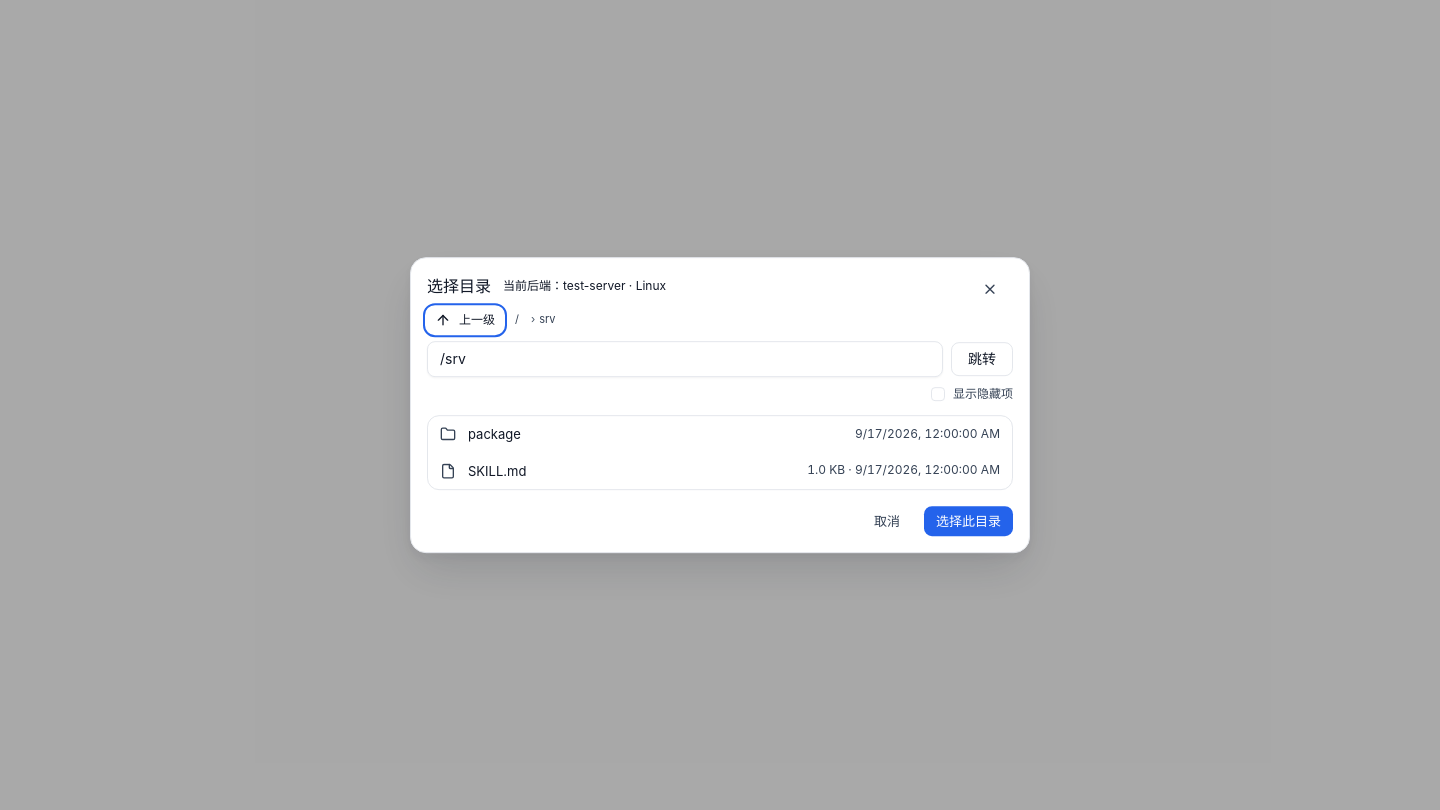
it: 原地改名 Enter 即提交，成功后跳新位置重取
Click the button "package" at coordinates (494, 435), box [440,425,843,445]
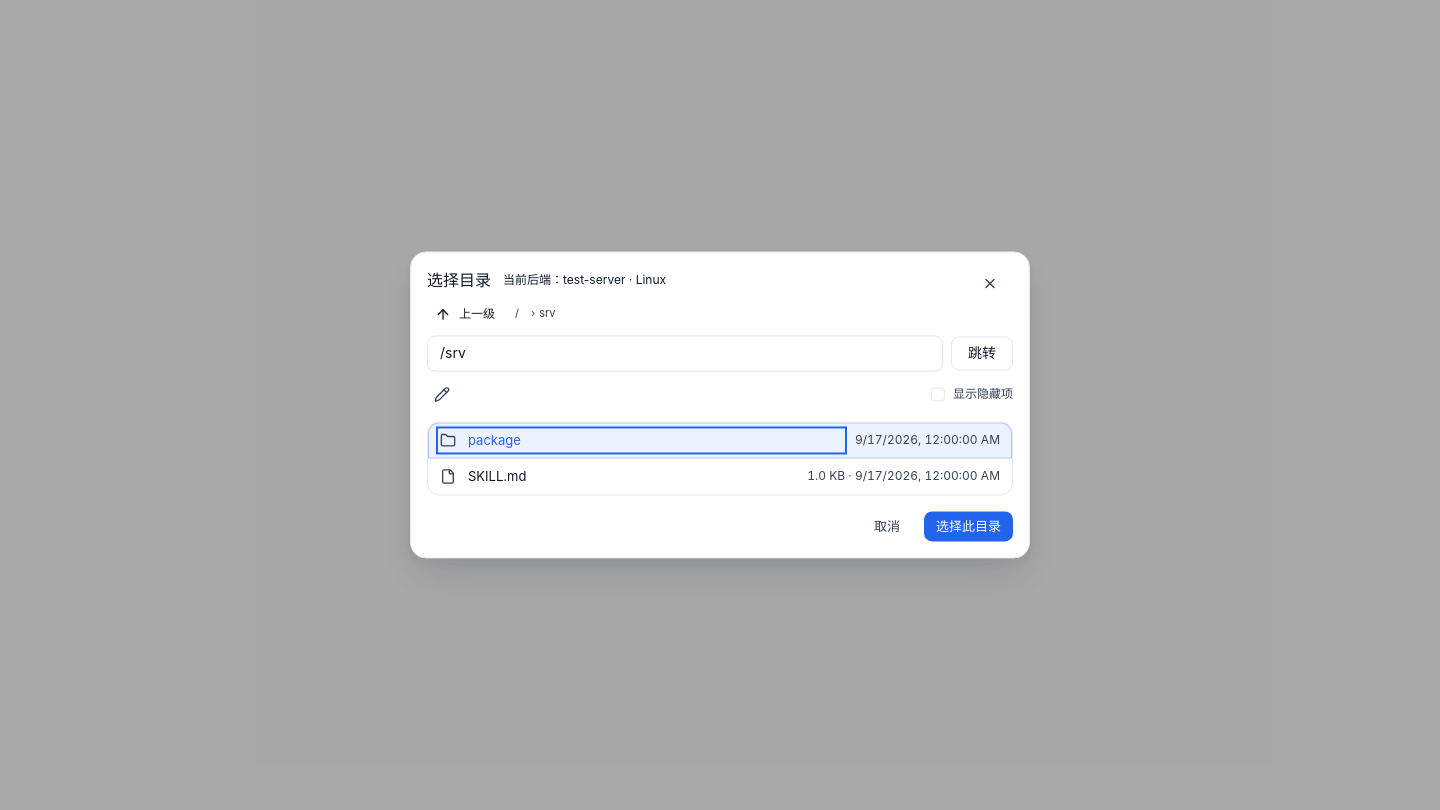
Click the button named "重命名" at coordinates (442, 394), box [427,379,457,409]
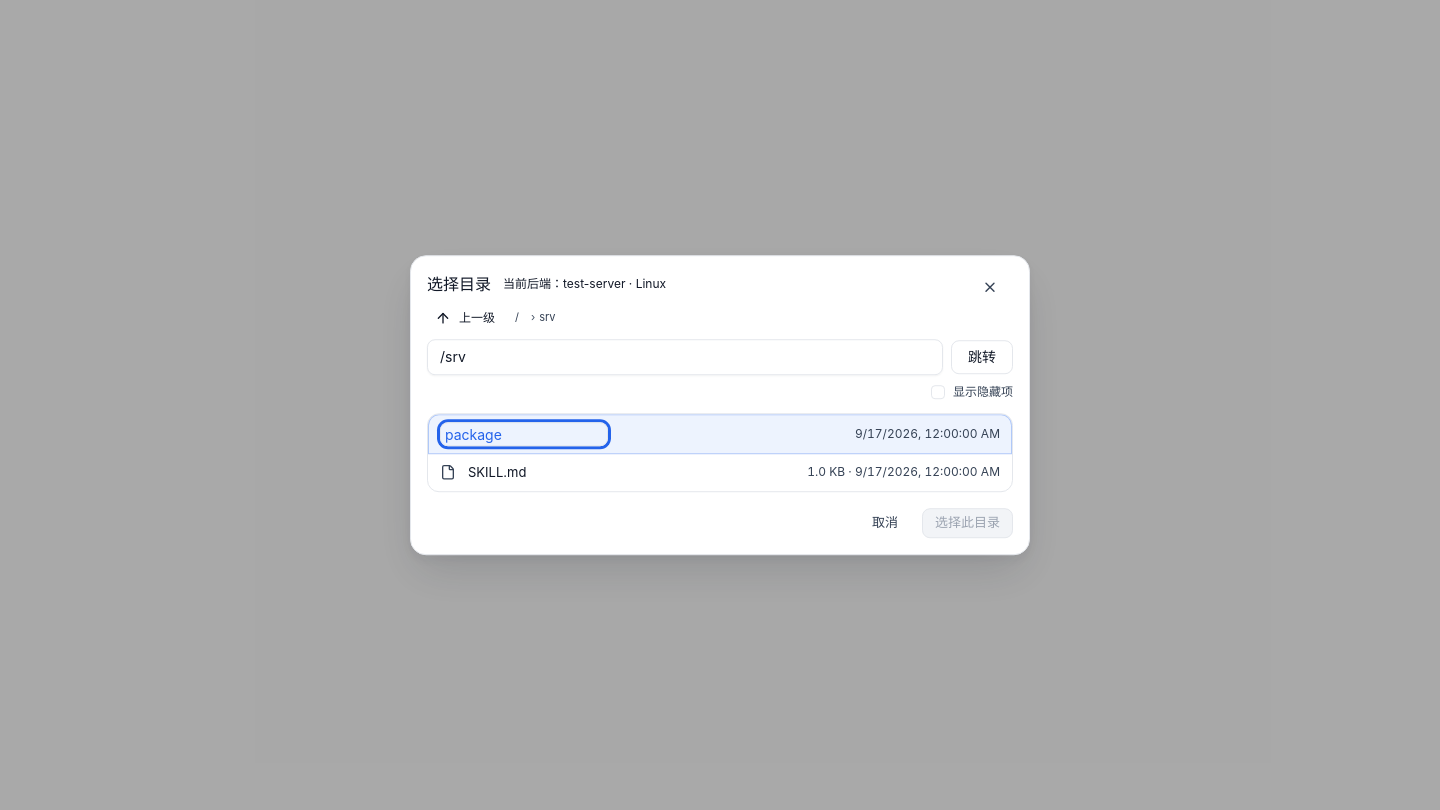
Replace the text in the field named "重命名 package" with "renamed" at coordinates (524, 435), box [440,423,608,447]
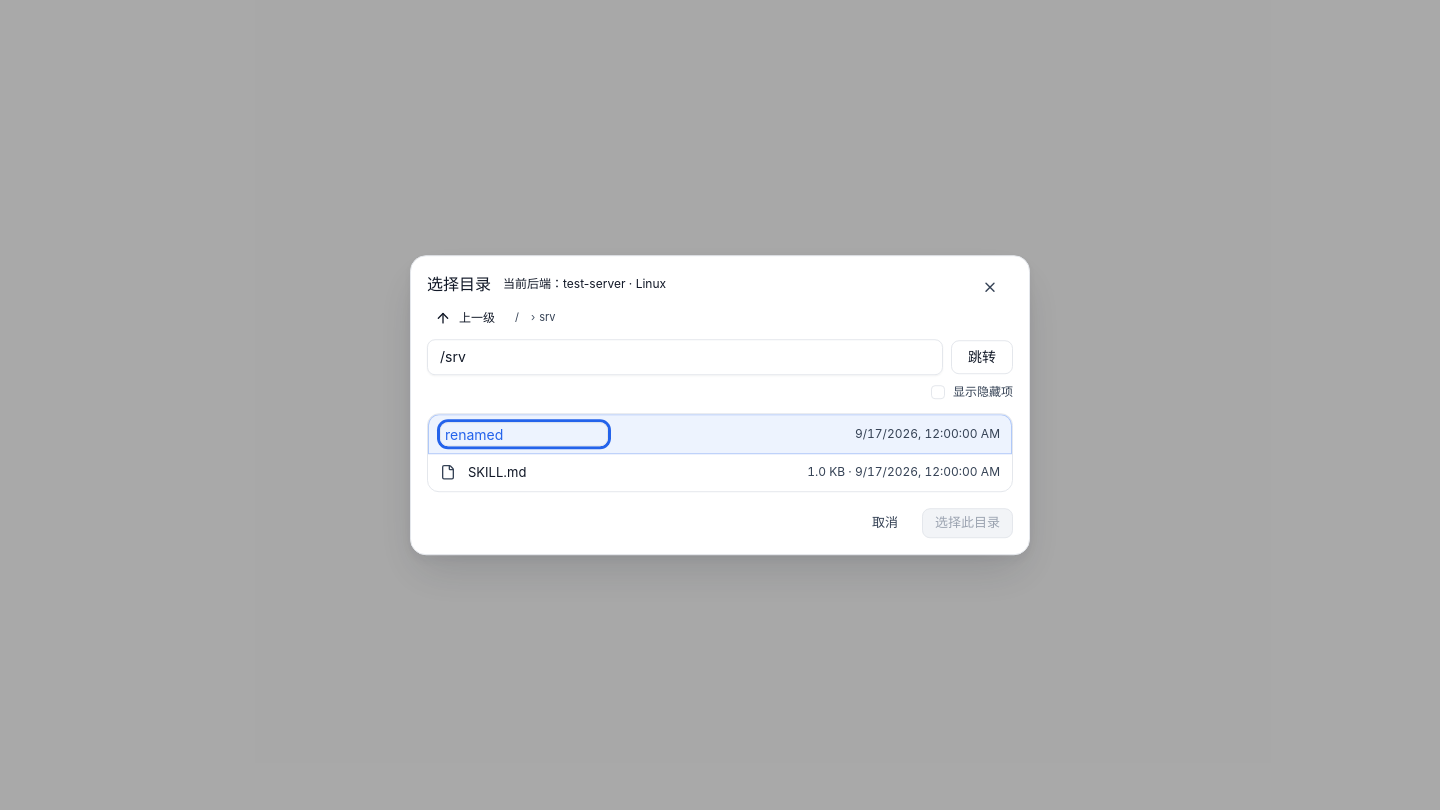
Press Enter
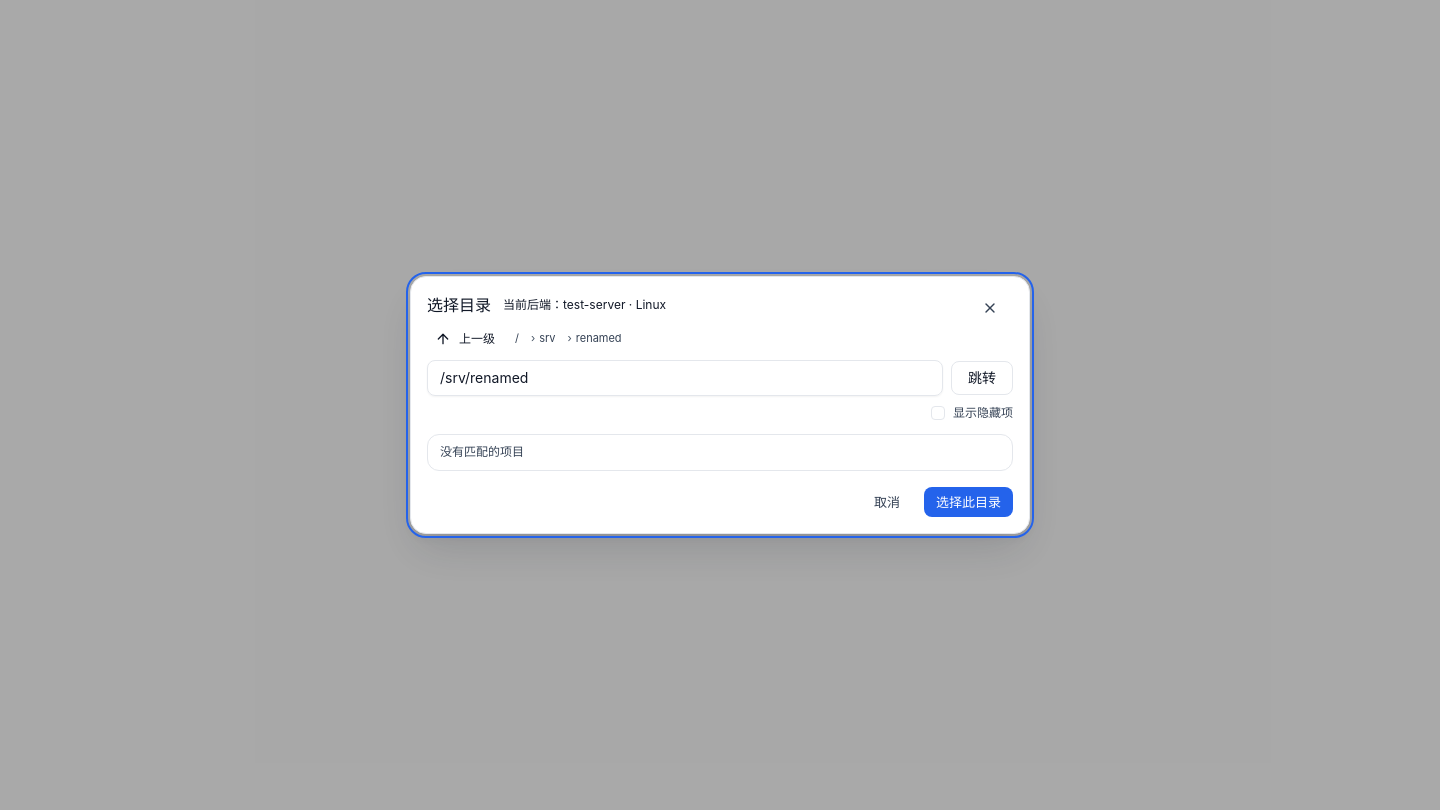
Expected: the text "没有匹配的项目" is shown, [440,444,524,459]
Expected: the button "选择此目录" is enabled, [924,487,1013,517]
